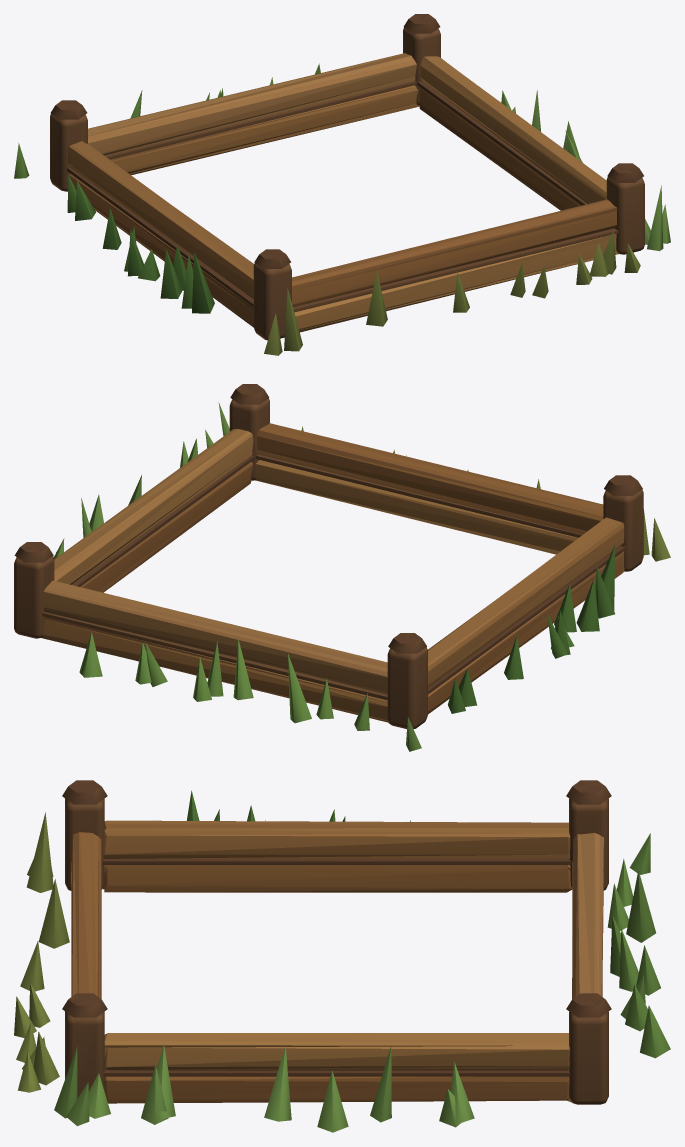
The model's file is g3d-plot-bed.glb.
3 views of the same model, one above another, from view 1: azimuth 30°, elevation 25°; view 2: azimuth 150°, elevation 25°; view 3: azimuth 270°, elevation 25° (orthographic). The views are drawn at different scales.
Visible parts, largest first — view 1: plot-bed-kit, plot-bed-foliage-0.08; view 2: plot-bed-kit, plot-bed-foliage-0.08; view 3: plot-bed-kit, plot-bed-foliage-0.08.
Part boxes in pixels (box(x1,y1,x2,y2)): plot-bed-kit: box(50, 14, 644, 340); plot-bed-foliage-0.08: box(14, 63, 670, 355); plot-bed-kit: box(14, 384, 643, 728); plot-bed-foliage-0.08: box(54, 402, 670, 751); plot-bed-kit: box(62, 780, 611, 1104); plot-bed-foliage-0.08: box(14, 790, 670, 1132).
Bounding box in the file's own units: 2.14 × 0.371 × 2.15.
